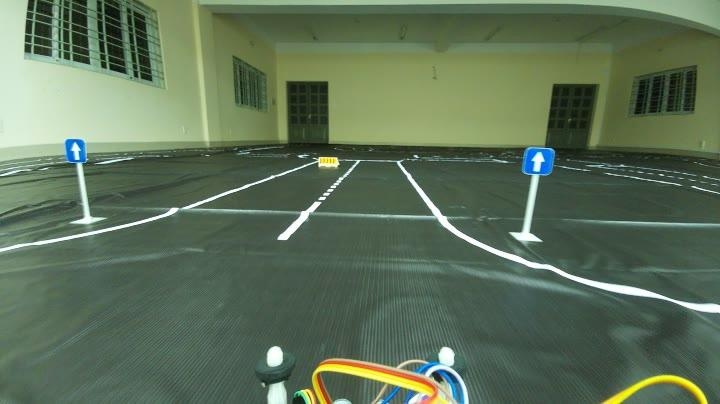onewayroad: (518, 143, 551, 180), (60, 138, 95, 166)
roadblock: (311, 155, 340, 166)
